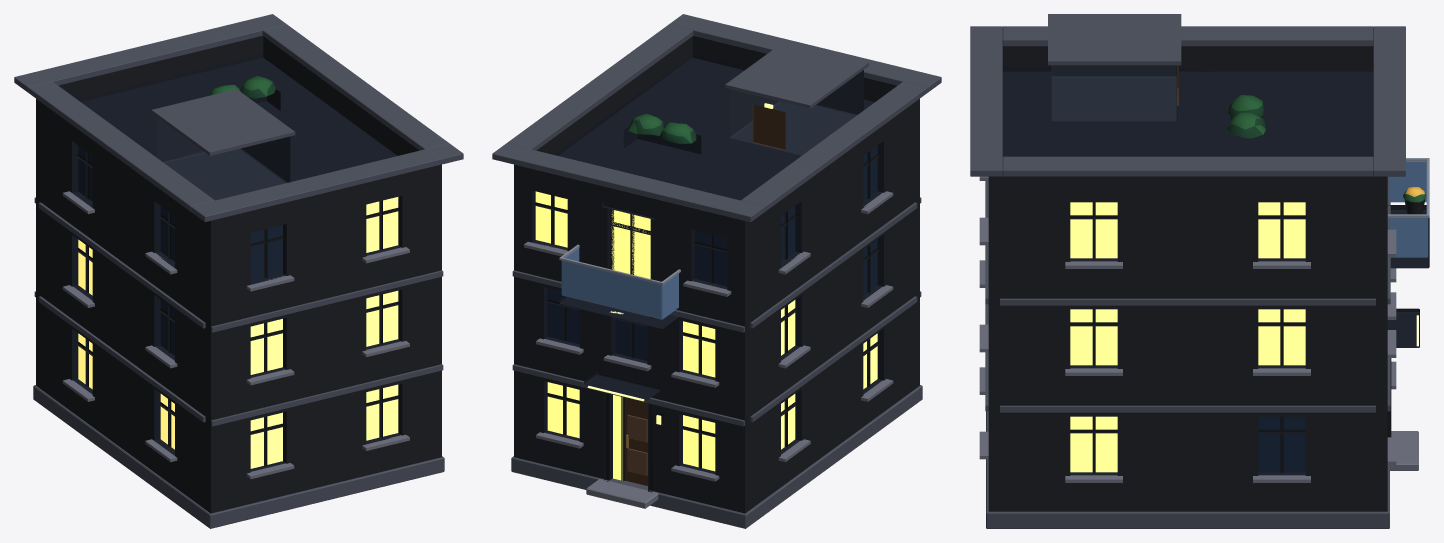
File: house_b.glb
The picture shows the model from 3 angles, left to right: view 1: azimuth 30°, elevation 25°; view 2: azimuth 150°, elevation 25°; view 3: azimuth 270°, elevation 25°; orthographic projection. The views are drawn at different scales.
Visible parts, largest first — view 1: house, plants; view 2: house, plants; view 3: house, plants.
Boxes of the visible parts, <box> form: house: <box>14,14,463,528</box>; plants: <box>209,76,276,98</box>; house: <box>492,14,941,528</box>; plants: <box>628,113,696,318</box>; house: <box>970,14,1429,528</box>; plants: <box>1226,95,1426,214</box>.
Size of the model in its own units: 6.5 by 8.4 by 8.76.
